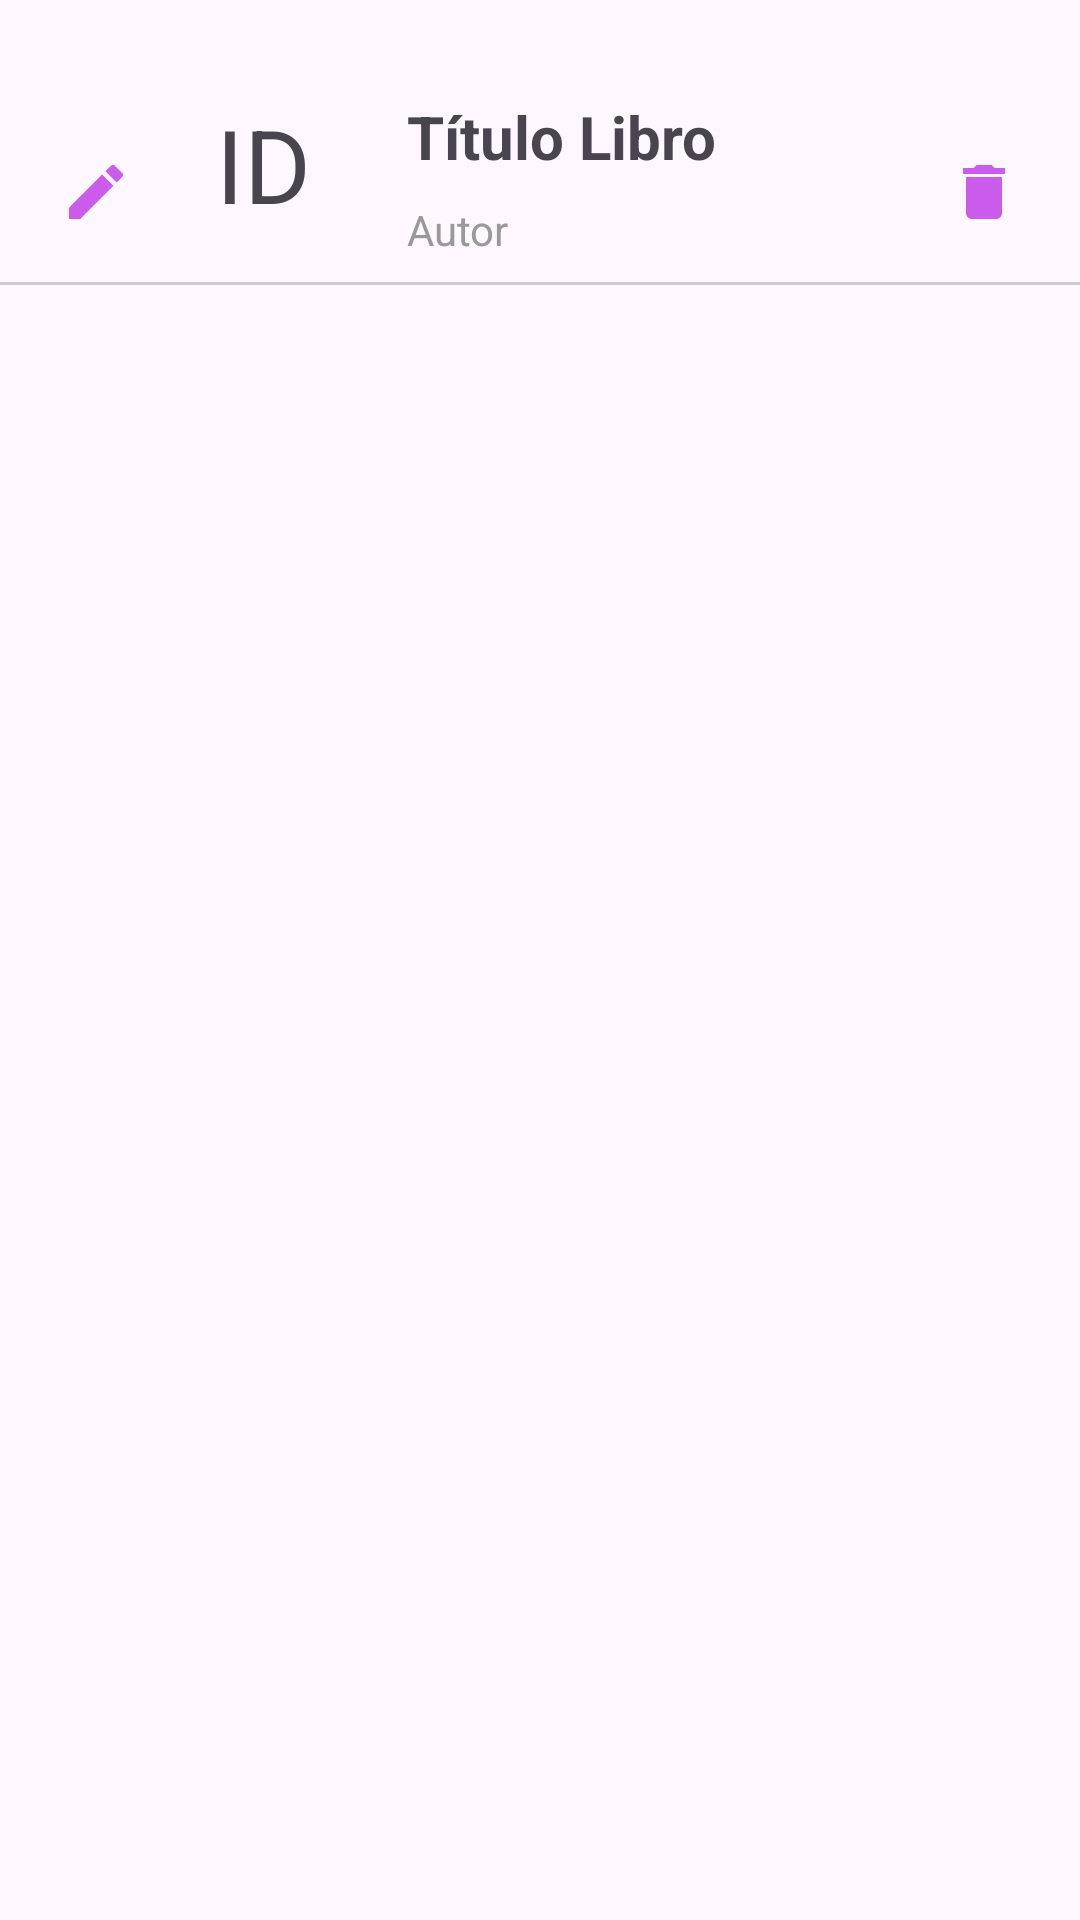

Screen size 1080w x 1920h. Icon name, then its center in pixels as (x=x, y=y):
Editar: (x=96, y=192)
Eliminar: (x=984, y=192)
